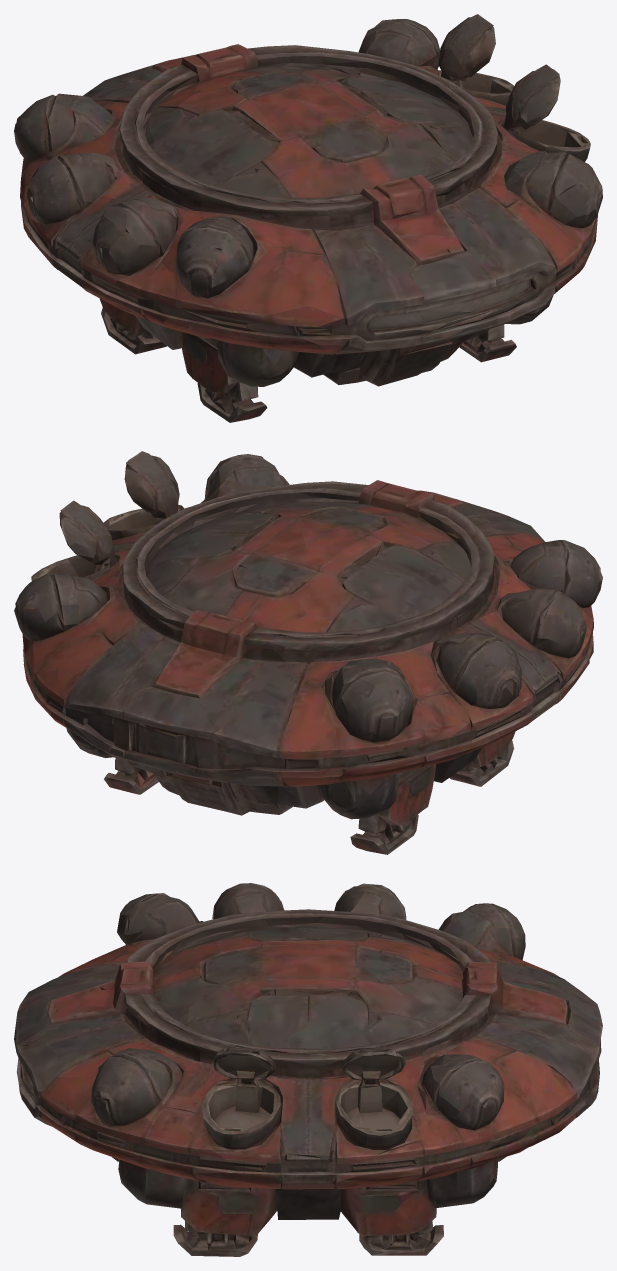
File: tender.glb
3 views of the same model, one above another, from view 1: azimuth 30°, elevation 25°; view 2: azimuth 150°, elevation 25°; view 3: azimuth 270°, elevation 25° (orthographic). The views are drawn at different scales.
Parts seen in each view (by area): view 1: Mesh_0; view 2: Mesh_0; view 3: Mesh_0.
Part boxes in pixels (left/top/right/bottom): Mesh_0: left=14, top=14, right=602, bottom=422; Mesh_0: left=14, top=451, right=602, bottom=854; Mesh_0: left=14, top=883, right=602, bottom=1256.
Size of the model in its own units: 3.69 by 1.81 by 4.
Materials: 1 (1 with a texture image).
